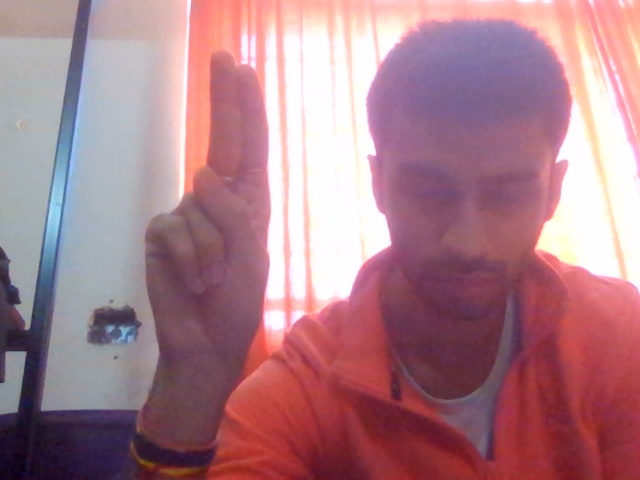U: (110, 26, 328, 444)
